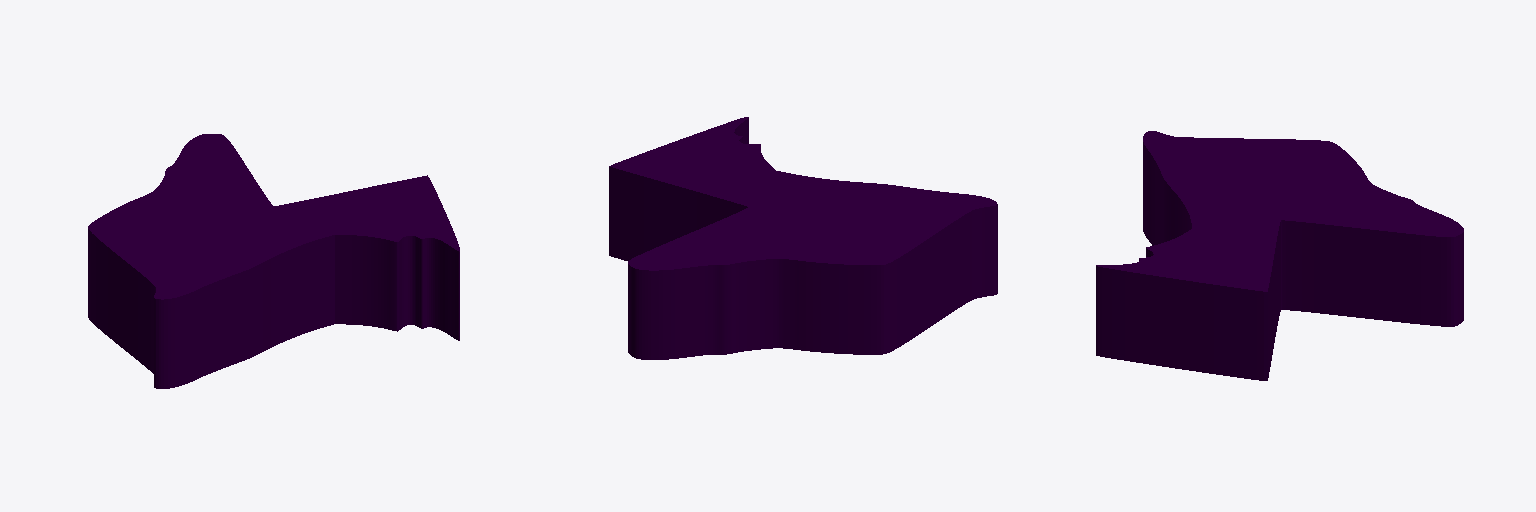
The model's file is Australia_04.obj.
3 renders of one model, left to right at view 1: azimuth 30°, elevation 25°; view 2: azimuth 150°, elevation 25°; view 3: azimuth 270°, elevation 25°, orthographic.
Parts seen in each view (by area): view 1: Australia_04_path4288; view 2: Australia_04_path4288; view 3: Australia_04_path4288.
Part boxes in pixels (bbox=[...]): Australia_04_path4288: bbox=[88, 134, 459, 388]; Australia_04_path4288: bbox=[609, 117, 997, 359]; Australia_04_path4288: bbox=[1096, 131, 1463, 380].
Bounding box in the file's own units: 0.3864 × 0.1 × 0.3731.